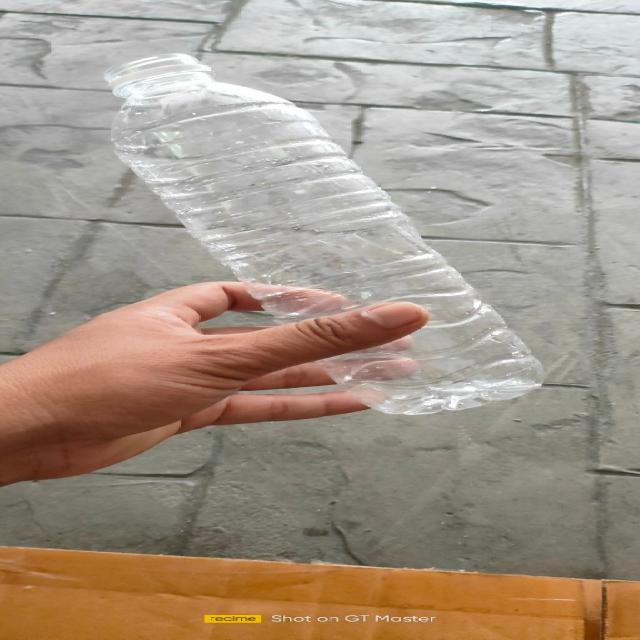plastic_bottle: (108, 54, 548, 414)
